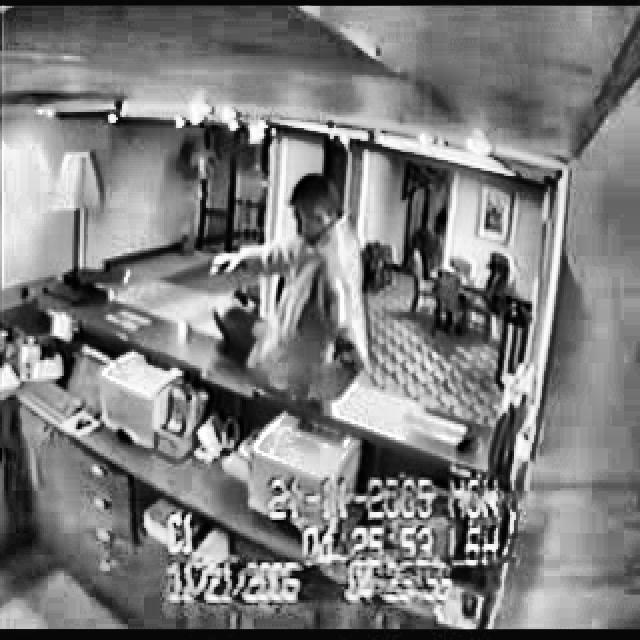burglary: (95, 170, 375, 523)
